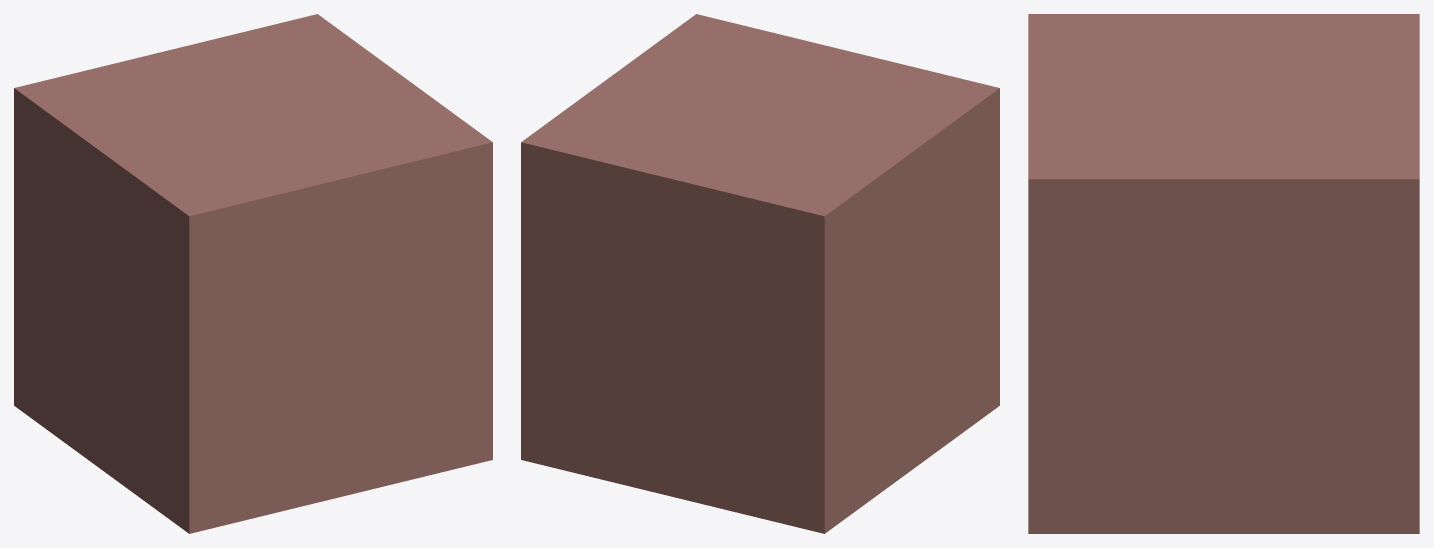
File: MudBlock.fbx
3 renders of one model, left to right at view 1: azimuth 30°, elevation 25°; view 2: azimuth 150°, elevation 25°; view 3: azimuth 270°, elevation 25°, orthographic. The views are drawn at different scales.
Parts seen in each view (by area): view 1: MudBlock; view 2: MudBlock; view 3: MudBlock.
Part boxes in pixels (box(x1,y1,x2,y2)): MudBlock: box(14, 14, 492, 533); MudBlock: box(521, 14, 999, 533); MudBlock: box(1028, 14, 1419, 533).
Size of the model in its own units: 1 by 1 by 1.
Materials: 1 (1 with a texture image).
